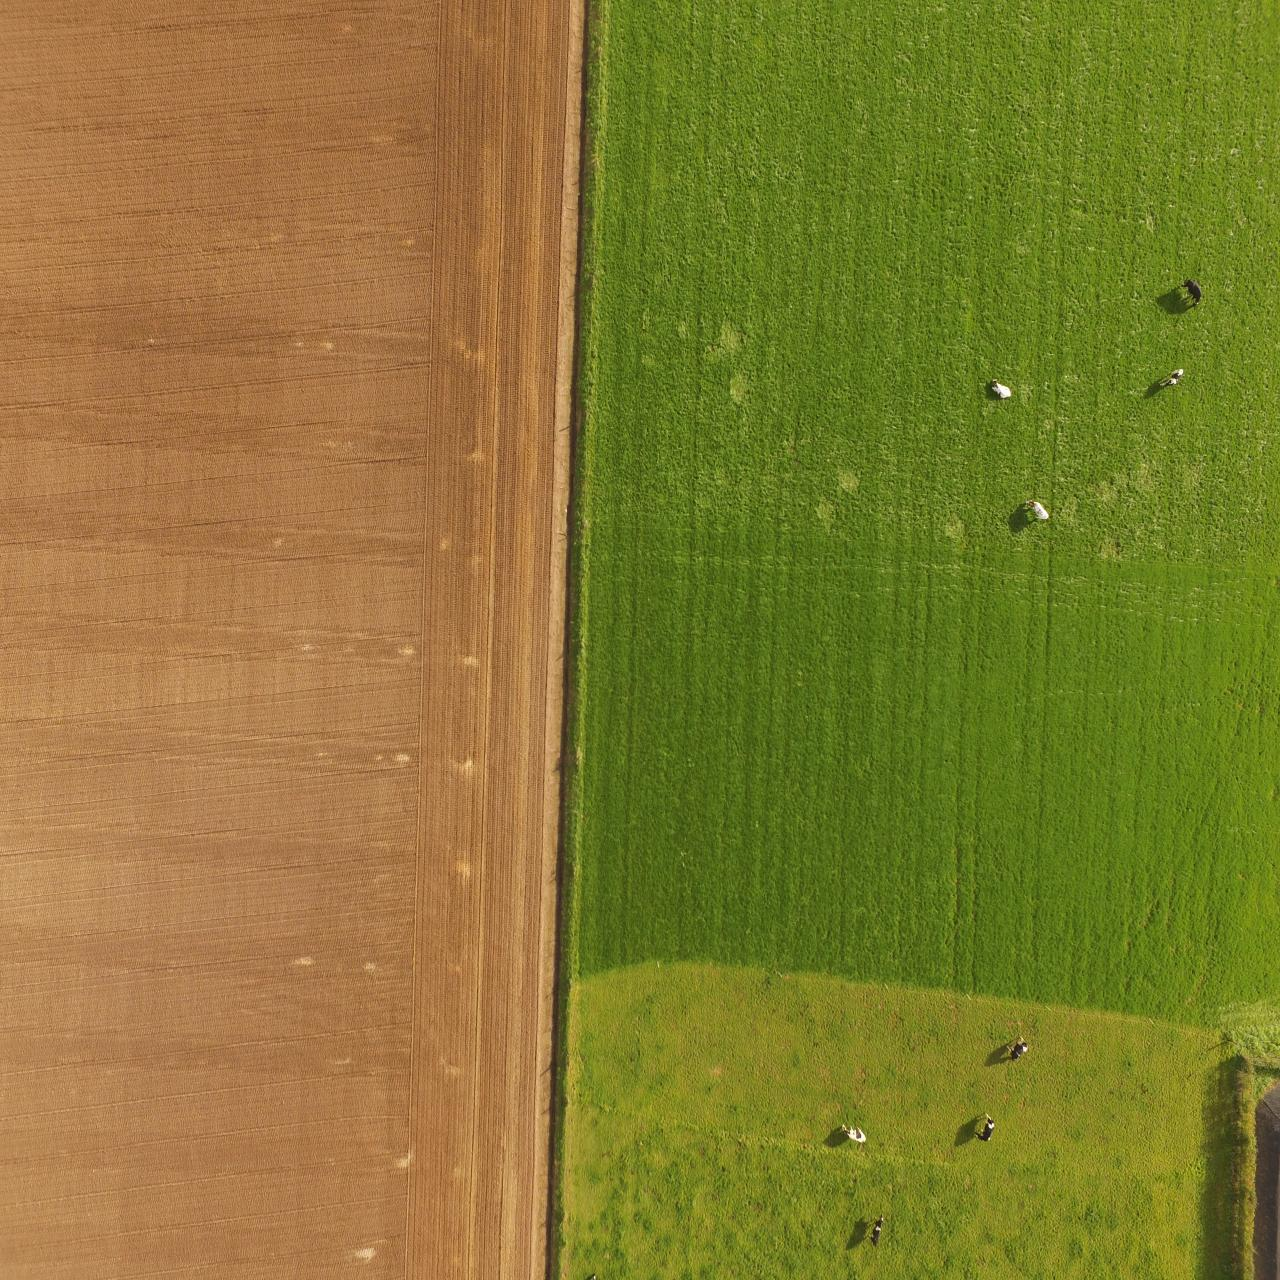cow: (1181, 276, 1203, 307), (974, 1110, 995, 1142), (1024, 498, 1048, 524), (1006, 1034, 1029, 1061), (868, 1211, 884, 1248), (1160, 366, 1184, 389), (841, 1123, 867, 1144), (990, 378, 1012, 399)
